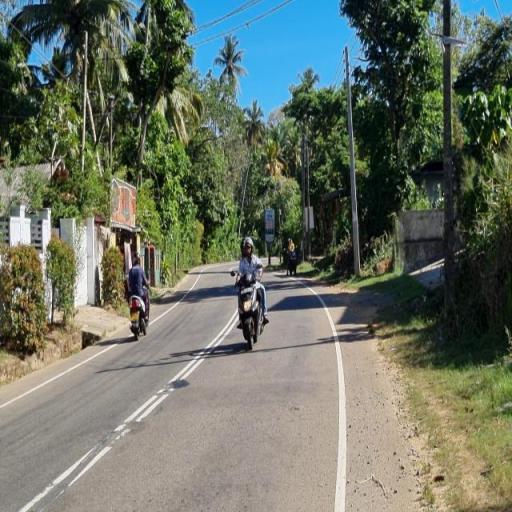double_white_line: (111, 310, 238, 438)
